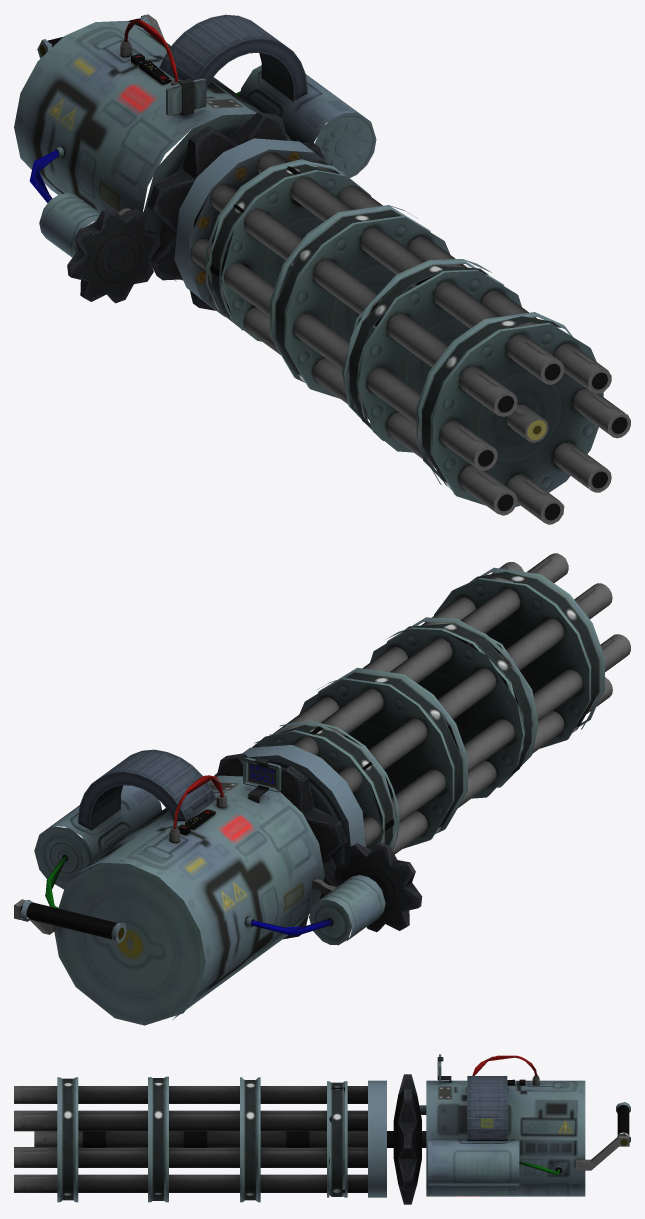
The model's file is weapon_chaingun.glb.
The picture shows the model from 3 angles, top to bottom: view 1: azimuth 30°, elevation 25°; view 2: azimuth 150°, elevation 25°; view 3: azimuth 270°, elevation 25°; orthographic projection. The views are drawn at different scales.
Bounding box in the file's own units: 0.3976 × 0.2604 × 1.05.
5 materials, 5 textured.
